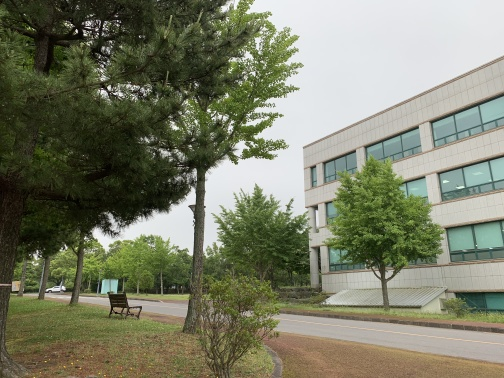Second Library: (301, 75, 503, 322)
